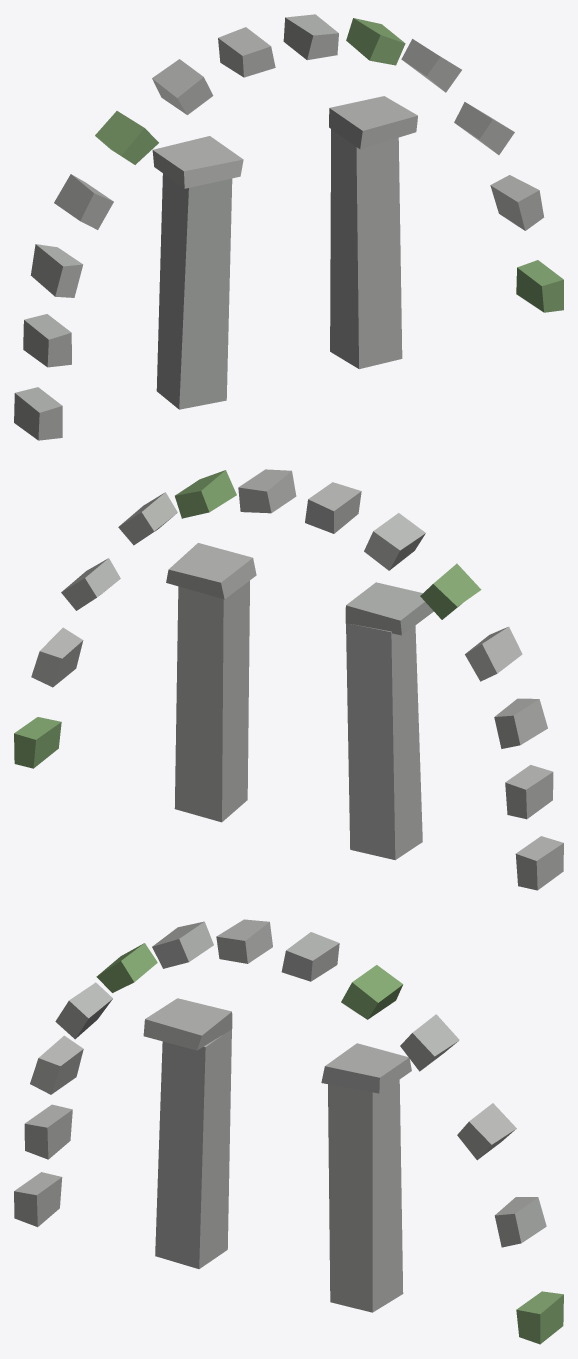
Rendered from stone_arch.glb.
3 views of the same model, one above another, from view 1: azimuth 30°, elevation 25°; view 2: azimuth 150°, elevation 25°; view 3: azimuth 330°, elevation 25° (orthographic).
Visible parts, largest first — view 1: Arch_PillarR, Arch_PillarL, Arch_CapL, Arch_CapR, Arch_V11.001, Arch_V11, Arch_V6, Arch_V10.001, Arch_V7, Arch_V10, Arch_V5, Arch_V0 (+5 smaller); view 2: Arch_PillarR, Arch_PillarL, Arch_CapR, Arch_CapL, Arch_V6, Arch_V7, Arch_V11, Arch_V11.001, Arch_V5, Arch_V10.001, Arch_V10, Arch_V0 (+5 smaller); view 3: Arch_PillarR, Arch_PillarL, Arch_CapL, Arch_CapR, Arch_V5, Arch_V11, Arch_V4, Arch_V11.001, Arch_V10.001, Arch_V0, Arch_V6, Arch_V10 (+5 smaller).
Part boxes in pixels (x1,y1,x2,y2): Arch_PillarR: (330, 129, 402, 369); Arch_PillarL: (156, 173, 232, 409); Arch_CapL: (152, 136, 243, 188); Arch_CapR: (329, 96, 417, 149); Arch_V11.001: (14, 387, 62, 440); Arch_V11: (23, 314, 71, 367); Arch_V6: (218, 27, 275, 77); Arch_V10.001: (30, 244, 83, 297); Arch_V7: (152, 59, 213, 114); Arch_V10: (490, 175, 544, 230); Arch_V5: (283, 14, 338, 60); Arch_V0: (516, 260, 563, 312); Arch_PillarR: (174, 580, 249, 822); Arch_PillarL: (346, 623, 422, 860); Arch_CapR: (166, 543, 256, 599); Arch_CapL: (345, 582, 433, 635); Arch_V6: (305, 482, 361, 533); Arch_V7: (364, 513, 425, 570); Arch_V11: (505, 765, 553, 819); Arch_V11.001: (515, 836, 563, 890); Arch_V5: (238, 469, 296, 513); Arch_V10.001: (494, 698, 547, 748); Arch_V10: (31, 627, 83, 687); Arch_V0: (14, 717, 61, 768); Arch_PillarR: (328, 1080, 403, 1312); Arch_PillarL: (155, 1029, 231, 1268); Arch_CapL: (143, 998, 232, 1050); Arch_CapR: (321, 1043, 411, 1093); Arch_V5: (281, 932, 339, 981); Arch_V11: (24, 1104, 72, 1159); Arch_V4: (341, 965, 403, 1019); Arch_V11.001: (14, 1172, 62, 1227); Arch_V10.001: (30, 1035, 83, 1094); Arch_V0: (516, 1291, 563, 1344); Arch_V6: (216, 919, 272, 963); Arch_V10: (494, 1197, 546, 1247).
Bounding box in the file's own units: 10.14 × 6.36 × 1.28.
